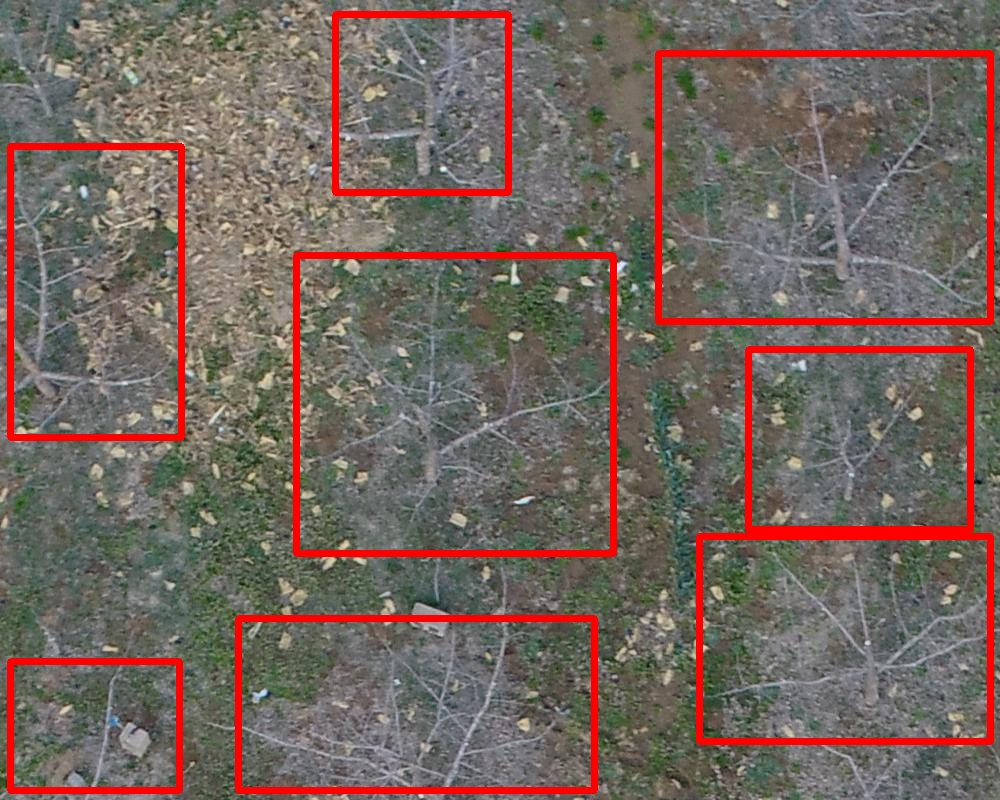apple: (296, 255, 613, 553), (658, 53, 990, 321), (238, 618, 594, 790), (699, 536, 990, 741), (10, 146, 181, 437), (748, 349, 970, 529), (335, 14, 508, 192), (10, 661, 179, 790)
